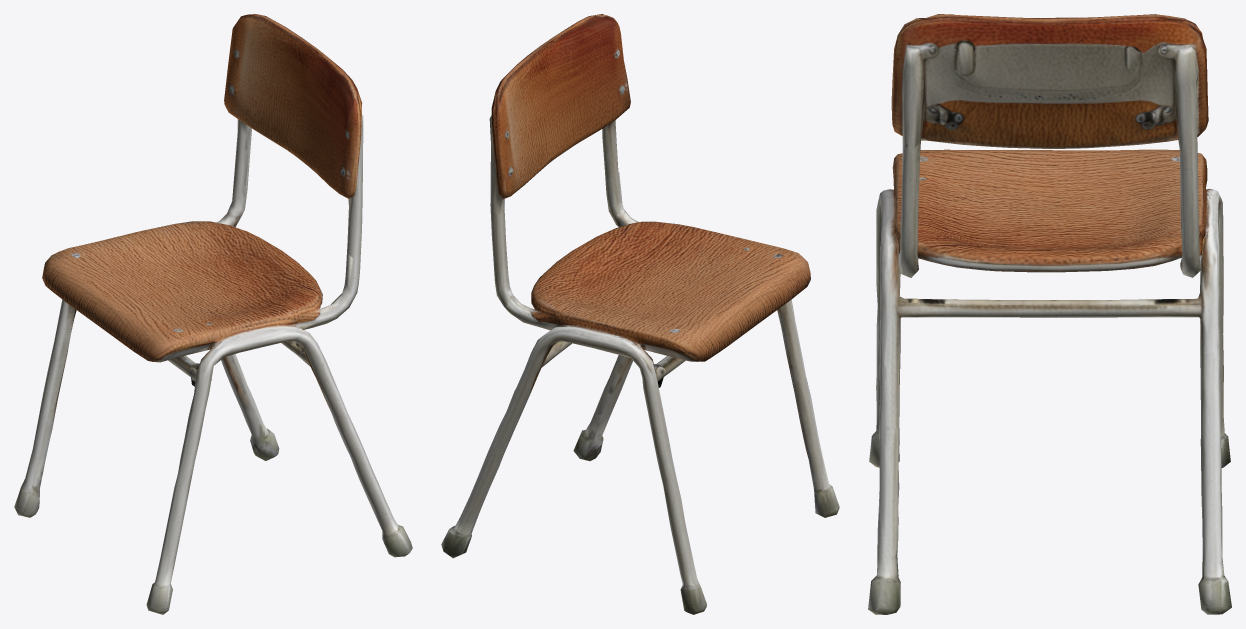
The model's file is Chair.fbx.
3 renders of one model, left to right at view 1: azimuth 30°, elevation 25°; view 2: azimuth 150°, elevation 25°; view 3: azimuth 270°, elevation 25°, orthographic. The views are drawn at different scales.
Visible parts, largest first — view 1: material_0; view 2: material_0; view 3: material_0.
Part boxes in pixels (x1,y1,x2,y2): material_0: (14, 14, 412, 614); material_0: (441, 14, 839, 614); material_0: (868, 14, 1231, 614).
Bounding box in the file's own units: 58.88 × 100 × 56.55.
1 material, 1 textured.
